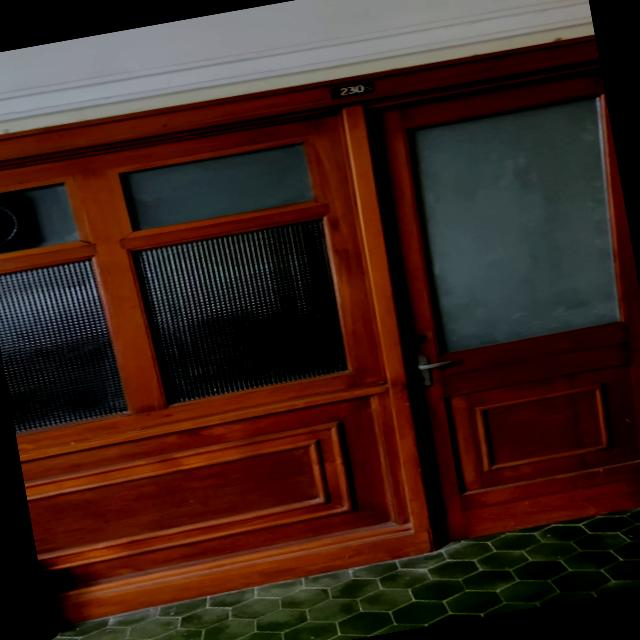room230: (331, 79, 376, 100)
